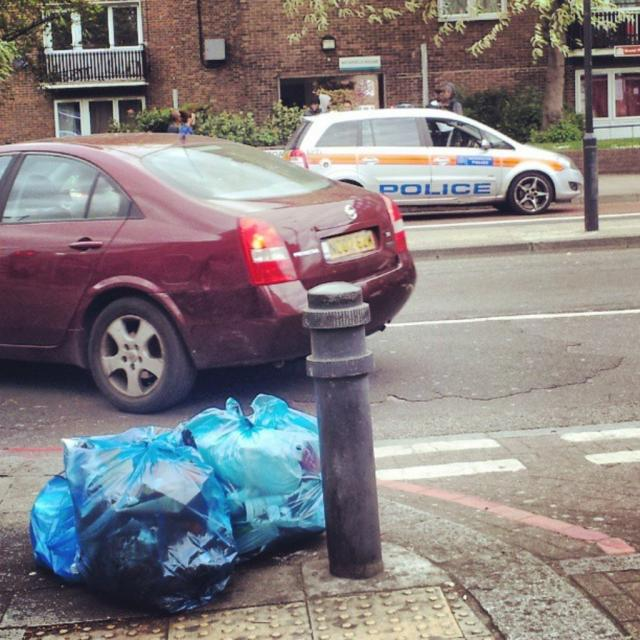other: (0, 110, 426, 419), (266, 106, 586, 231)
